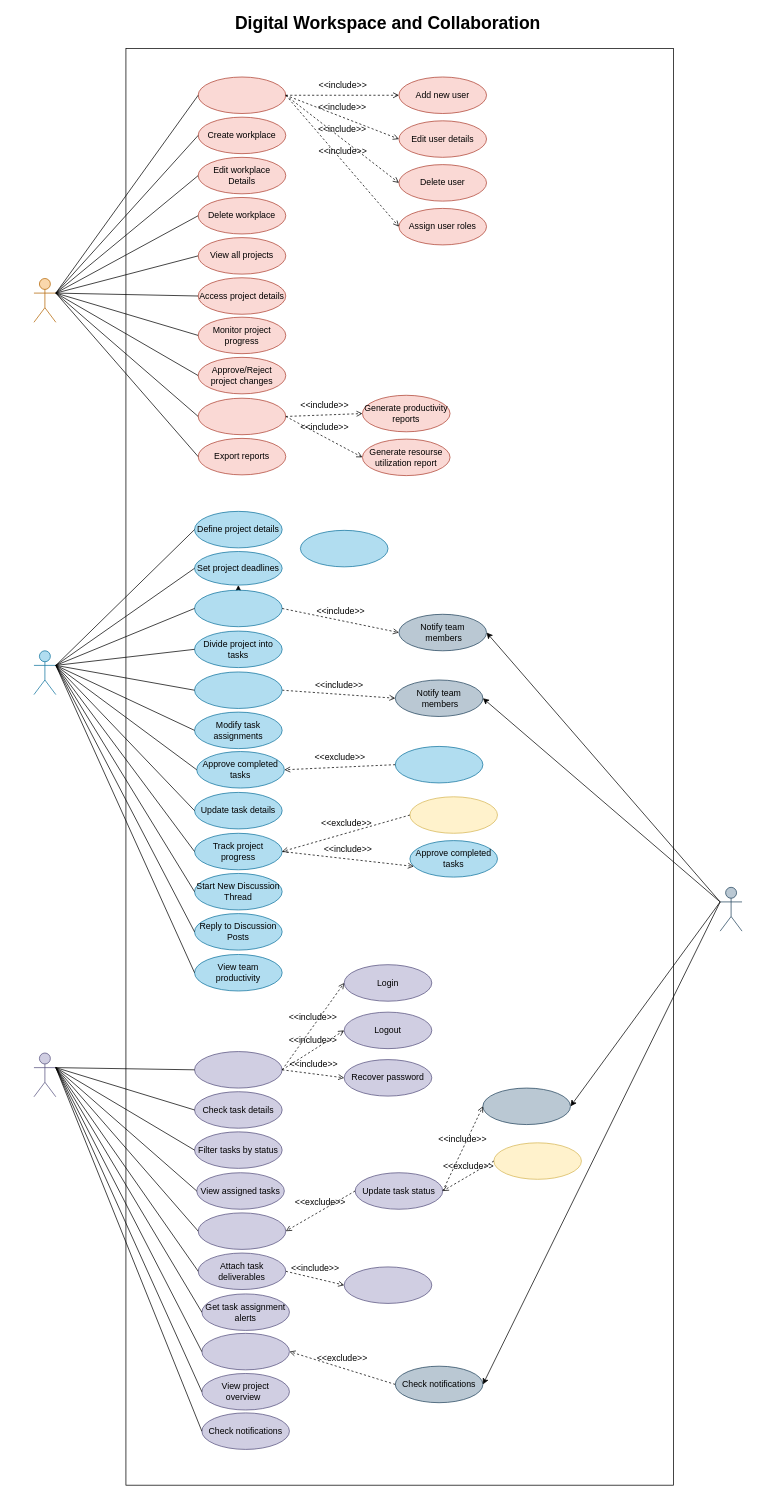
Some shapes in this 781 by 1498 pixel diagram are drawn without their labels. Here are the shapes that lost their labels. From the top down, the centre of each, then its label:
At point 241,95: "Manage users".
At point 44,300: "Admin".
At point 241,416: "Generate Reports".
At point 344,548: "Set project priorities".
At point 238,608: "Assign initial team mamabers".
At point 44,672: "Project Manager".
At point 238,689: "Allocate tasks to team memebers".
At point 439,764: "View task prograss".
At point 453,814: "Generate project reports".
At point 730,909: "Notification System".
At point 44,1074: "Team Member".
At point 238,1069: "User authenticate".
At point 526,1106: "Notify project manager".
At point 537,1160: "Participate in discussions".
At point 241,1230: "Request task clarification".
At point 387,1284: "post comments".
At point 245,1351: "Recieve deadline reminders".
